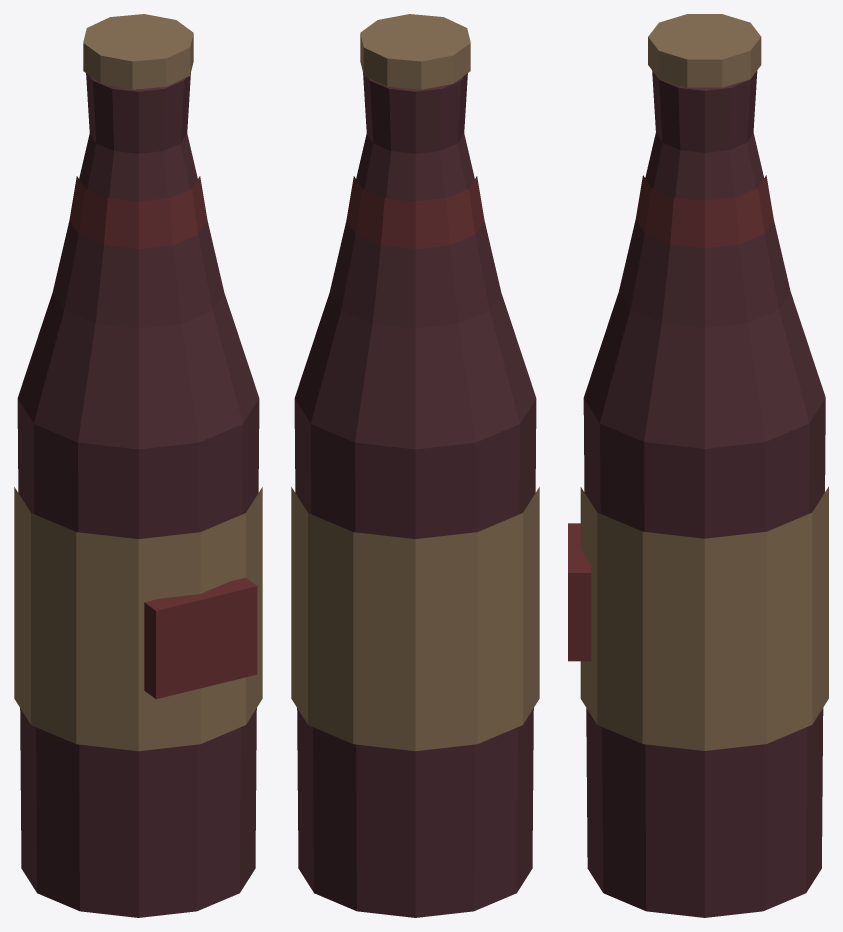
Rendered from bere_sticla.glb.
The picture shows the model from 3 angles, left to right: view 1: azimuth 30°, elevation 25°; view 2: azimuth 150°, elevation 25°; view 3: azimuth 270°, elevation 25°; orthographic projection.
Parts seen in each view (by area): view 1: Bere, Capac; view 2: Bere, Capac; view 3: Bere, Capac.
Part boxes in pixels (x1=…): Bere: x1=14, y1=73, x2=262, y2=917; Capac: x1=83, y1=14, x2=193, y2=89; Bere: x1=291, y1=73, x2=539, y2=917; Capac: x1=360, y1=14, x2=470, y2=89; Bere: x1=568, y1=70, x2=828, y2=917; Capac: x1=648, y1=14, x2=761, y2=87.
Bounding box in the file's own units: 0.0636 × 0.237 × 0.0668.
